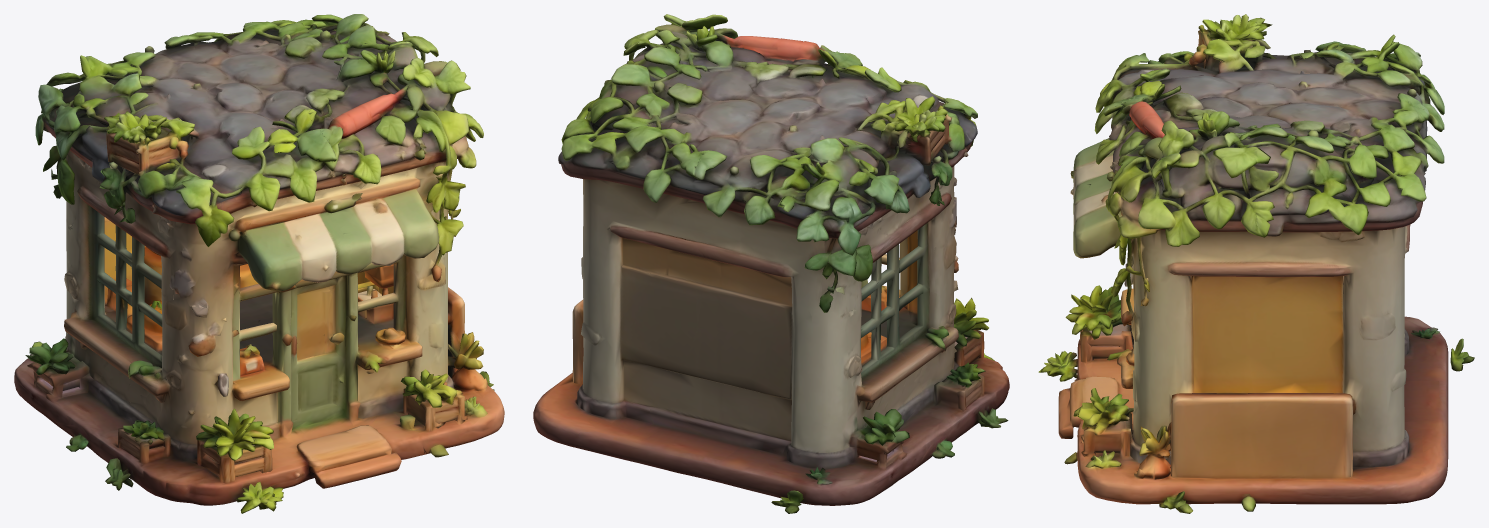
The model's file is survivor-detail.glb.
3 views of the same model, side by side, from view 1: azimuth 30°, elevation 25°; view 2: azimuth 150°, elevation 25°; view 3: azimuth 270°, elevation 25° (orthographic). The views are drawn at different scales.
Parts seen in each view (by area): view 1: tripo_node_530a4247-a100-45eb-ac43-f520bf5e6653; view 2: tripo_node_530a4247-a100-45eb-ac43-f520bf5e6653; view 3: tripo_node_530a4247-a100-45eb-ac43-f520bf5e6653.
Boxes of the visible parts, x1,y1,x2,y2 form: tripo_node_530a4247-a100-45eb-ac43-f520bf5e6653: (14,14,504,513); tripo_node_530a4247-a100-45eb-ac43-f520bf5e6653: (533,14,1009,513); tripo_node_530a4247-a100-45eb-ac43-f520bf5e6653: (1038,14,1474,513).
Bounding box in the file's own units: 0.9796 × 0.8566 × 0.9598.
1 material, 1 textured.
